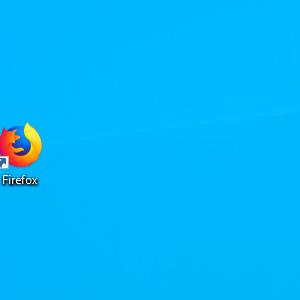firefox: (1, 120, 43, 169)
